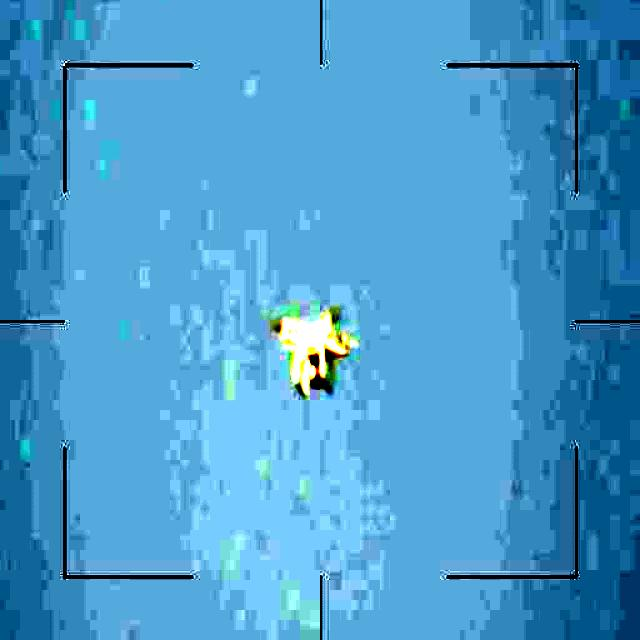bird: (268, 310, 355, 402)
